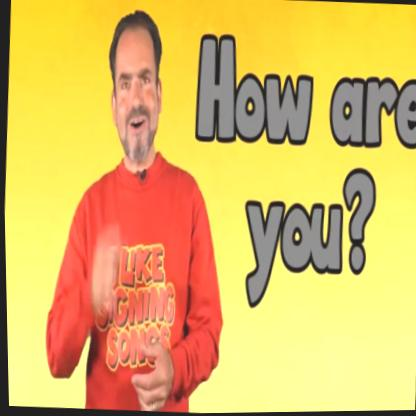HowAreYou: (71, 188, 193, 414)
